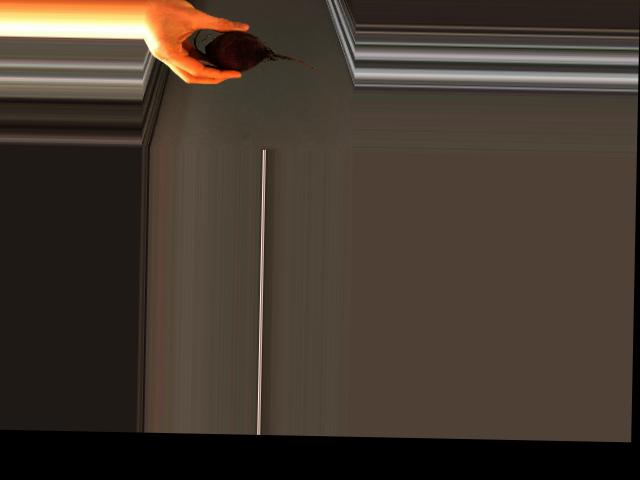beet: (194, 29, 320, 72)
